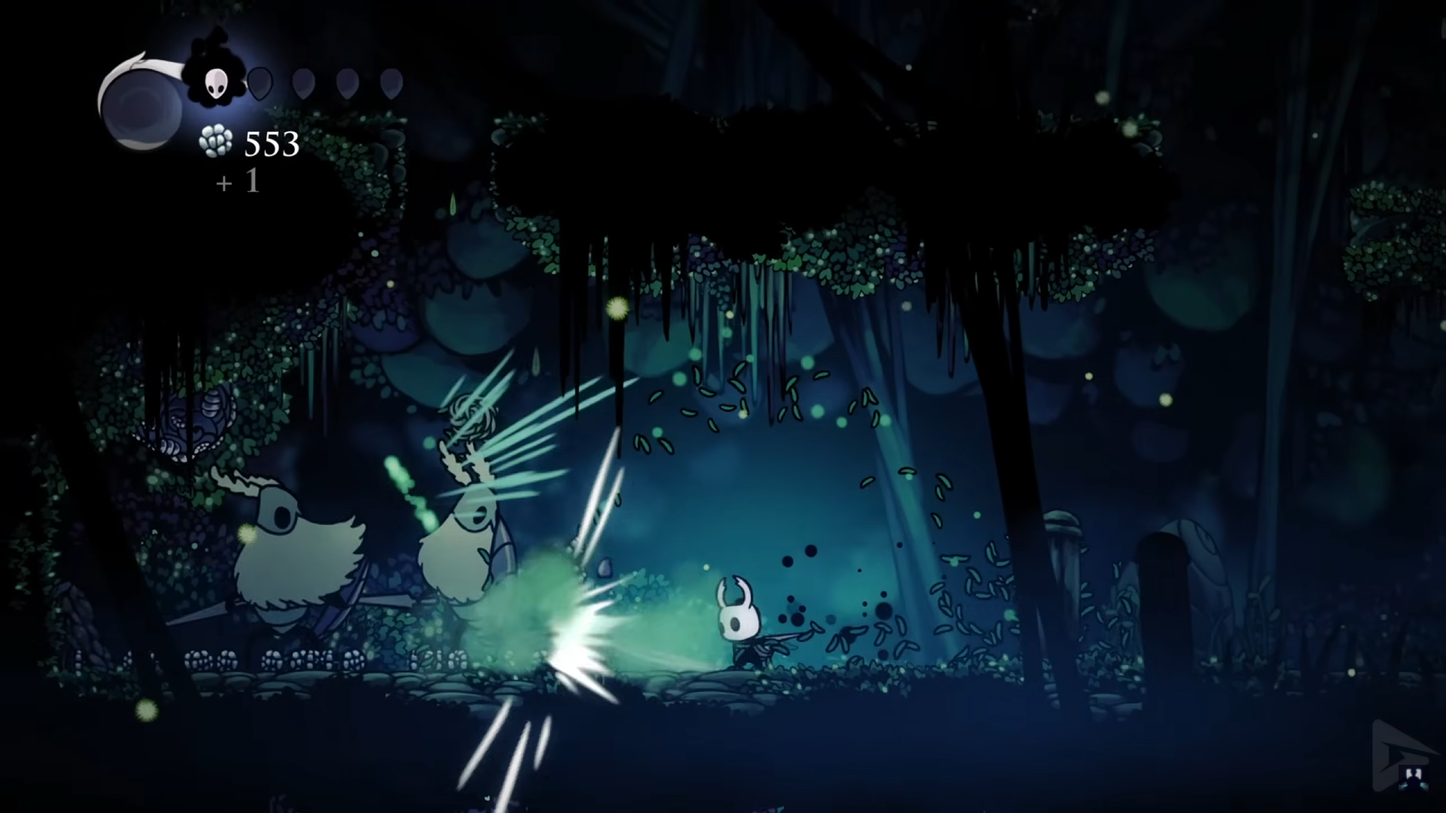HK: (712, 574, 774, 677)
